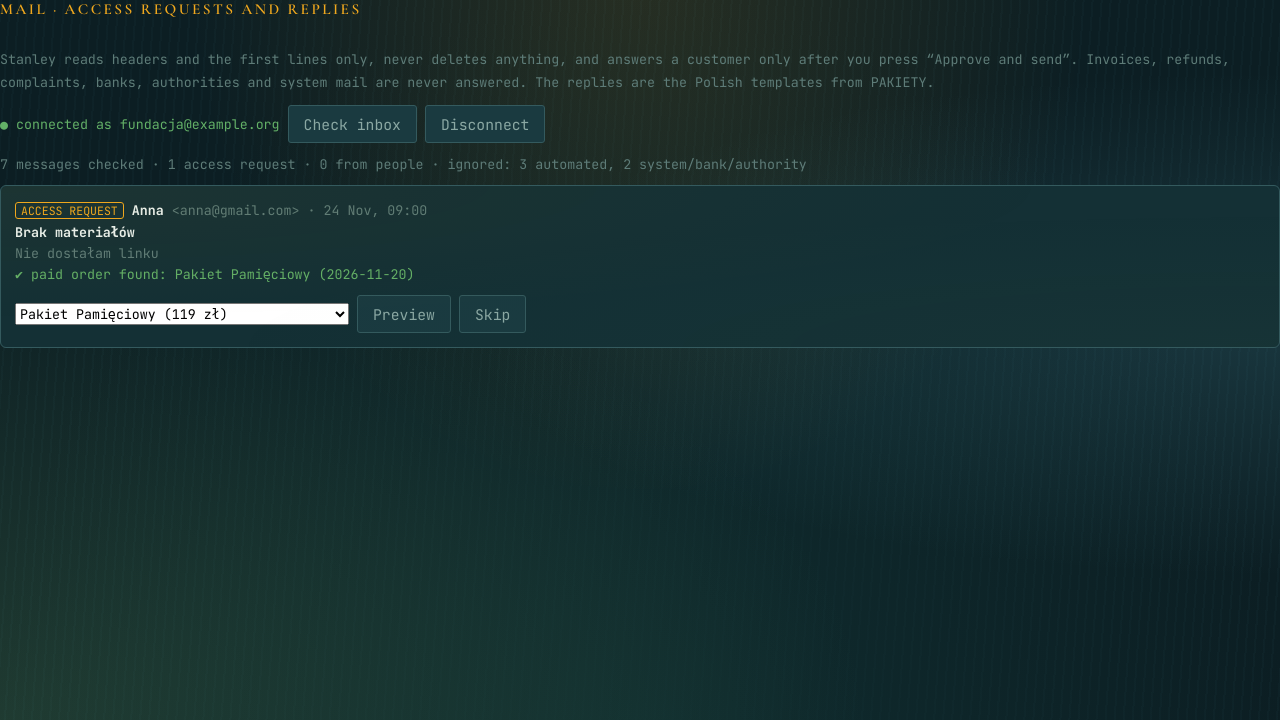
it: MailPanel: approval flow › nothing leaves before Preview → Approve; a verified buyer needs no extra box; the browser sends ids only
Check: the text with test id "mail-counts" shows "7 messages checked", box [0,155,807,173]
Click the button "Preview" at (404, 314), box [357,295,451,333]
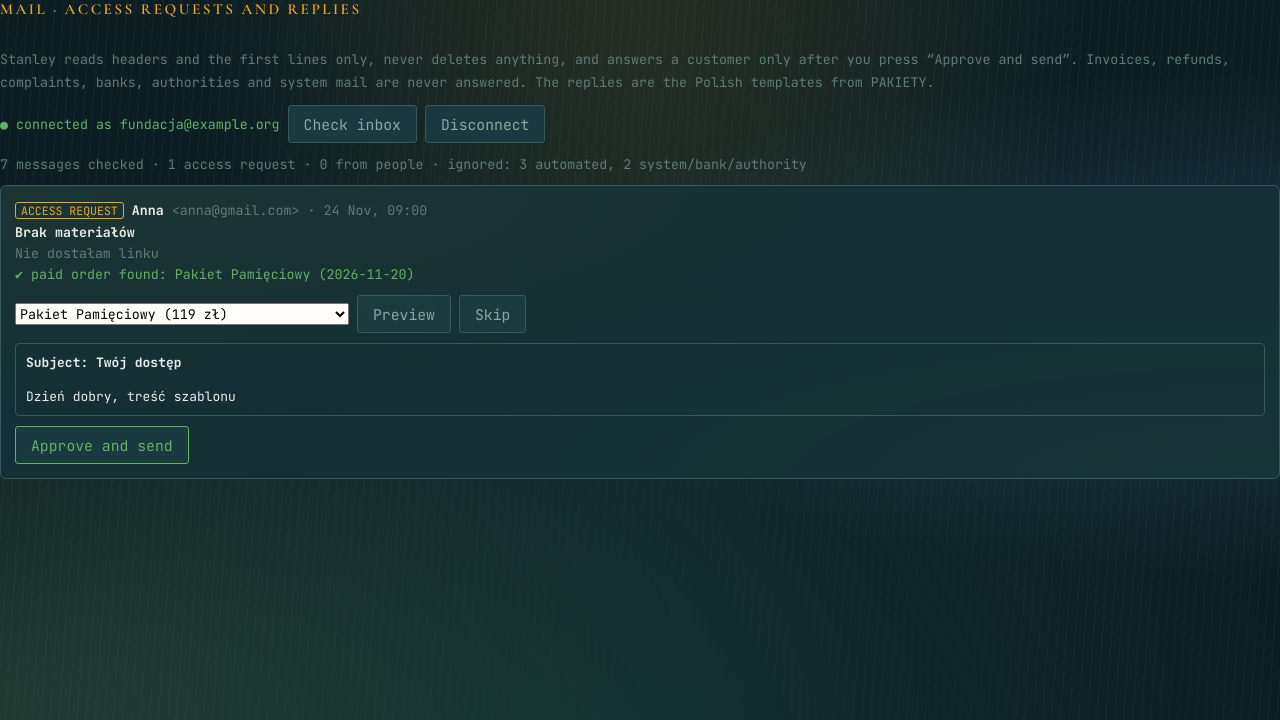
Check: the text "Dzień dobry, treść szablonu" is shown, box [26,388,236,405]
Click the button "Approve and send" at (102, 445), box [15,426,189,464]
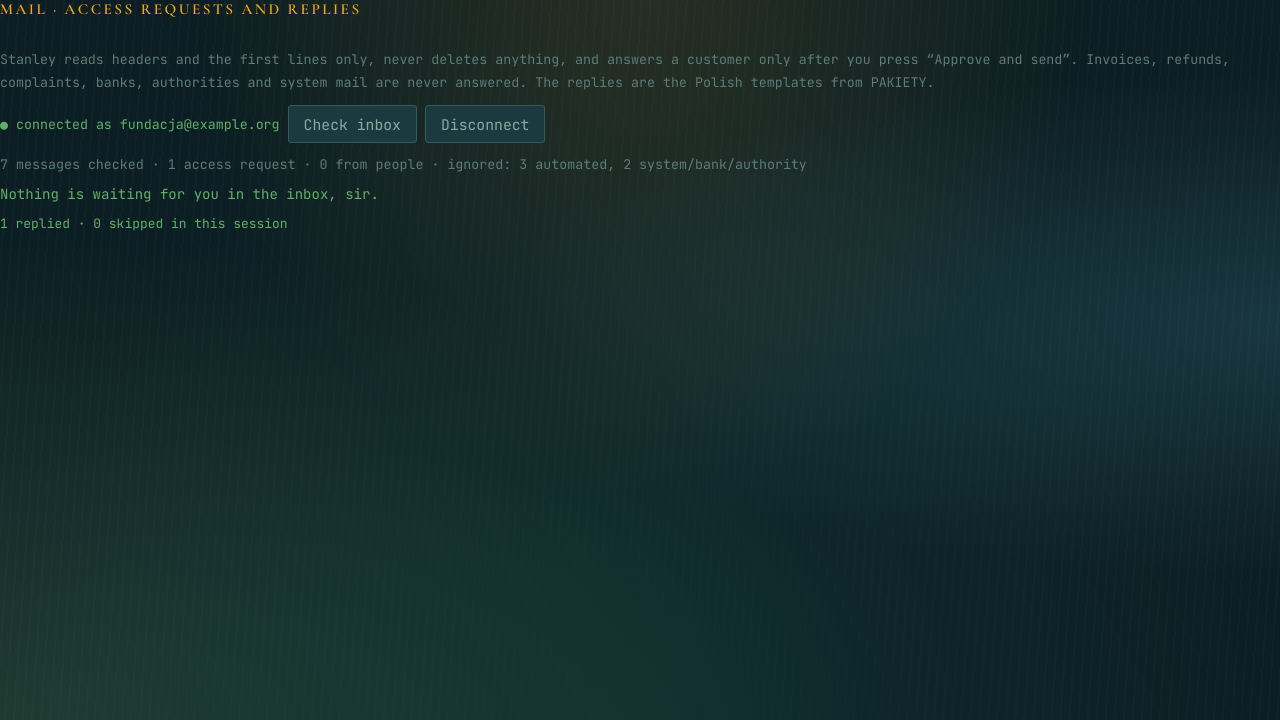
Check: the element with test id "mail-item" is gone
Check: the text "1 replied" is shown, box [0,215,288,232]
